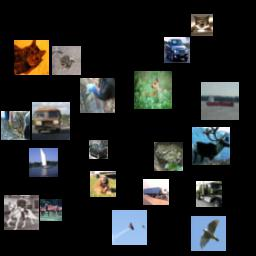airplane: (112, 210, 147, 245)
automobile: (164, 37, 190, 63), (89, 140, 108, 159)
bird: (191, 216, 226, 251), (80, 78, 115, 113)
cat: (14, 40, 49, 75), (1, 111, 30, 140), (191, 14, 213, 36)
deer: (192, 127, 230, 165), (134, 71, 172, 109), (40, 199, 62, 221)
dog: (90, 171, 116, 197)
frog: (52, 46, 81, 75), (154, 142, 183, 171)
ship: (201, 82, 239, 120), (29, 148, 58, 177)
truck: (32, 102, 70, 140), (196, 181, 222, 207), (143, 179, 169, 205)
